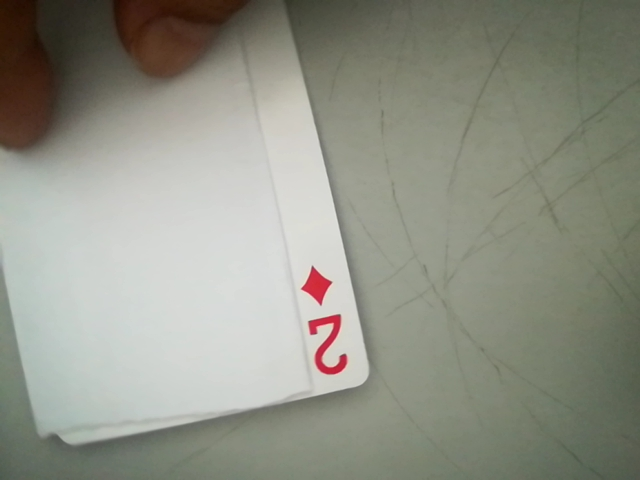fk 2: (288, 261, 362, 385)
